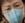with_mask: (2, 1, 25, 23)
